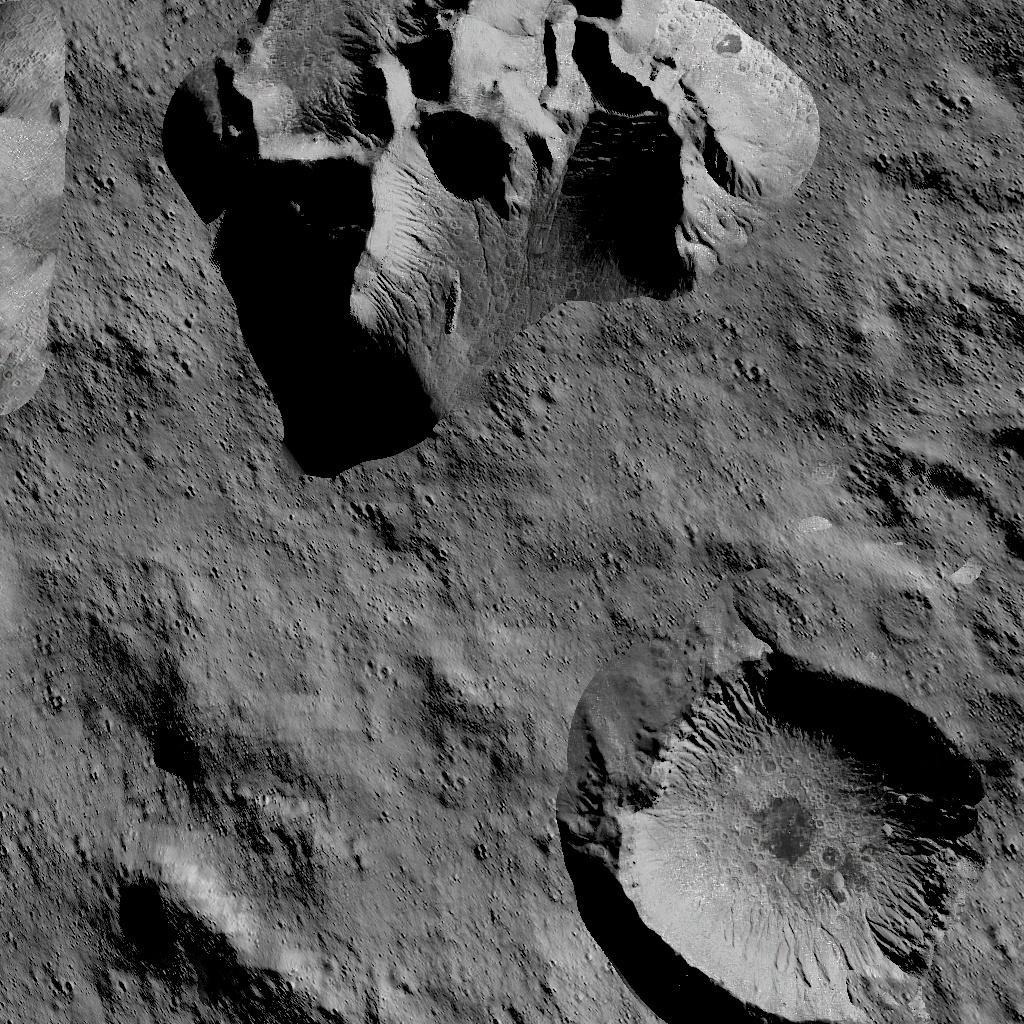Boulders: (163, 0, 822, 466), (111, 864, 331, 1024), (0, 0, 72, 438)
Crater: (560, 638, 1002, 1024), (859, 434, 1024, 586), (132, 702, 228, 804)
Plan surface: (252, 480, 546, 840), (837, 0, 1024, 384), (7, 478, 238, 684), (565, 478, 825, 620)
